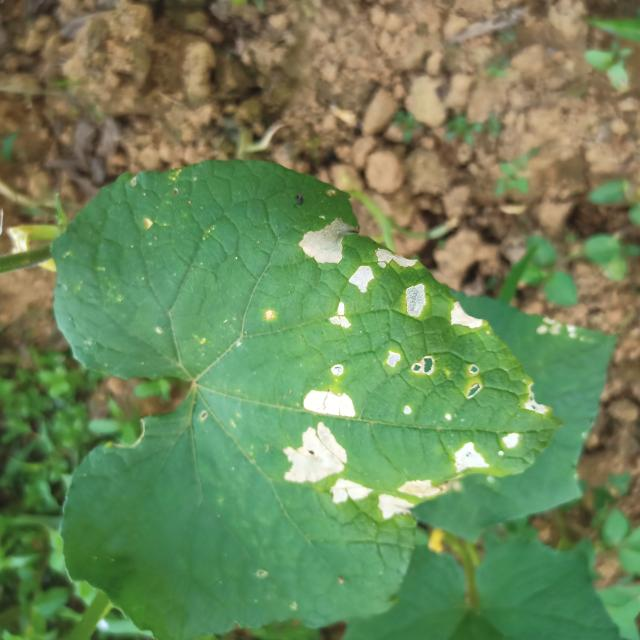disease_cucumber: (289, 387, 355, 483), (349, 243, 419, 296), (449, 431, 518, 474), (300, 216, 352, 268), (378, 479, 441, 520), (382, 347, 438, 379), (444, 298, 482, 332), (401, 282, 430, 322), (329, 478, 372, 503), (332, 298, 354, 333)
